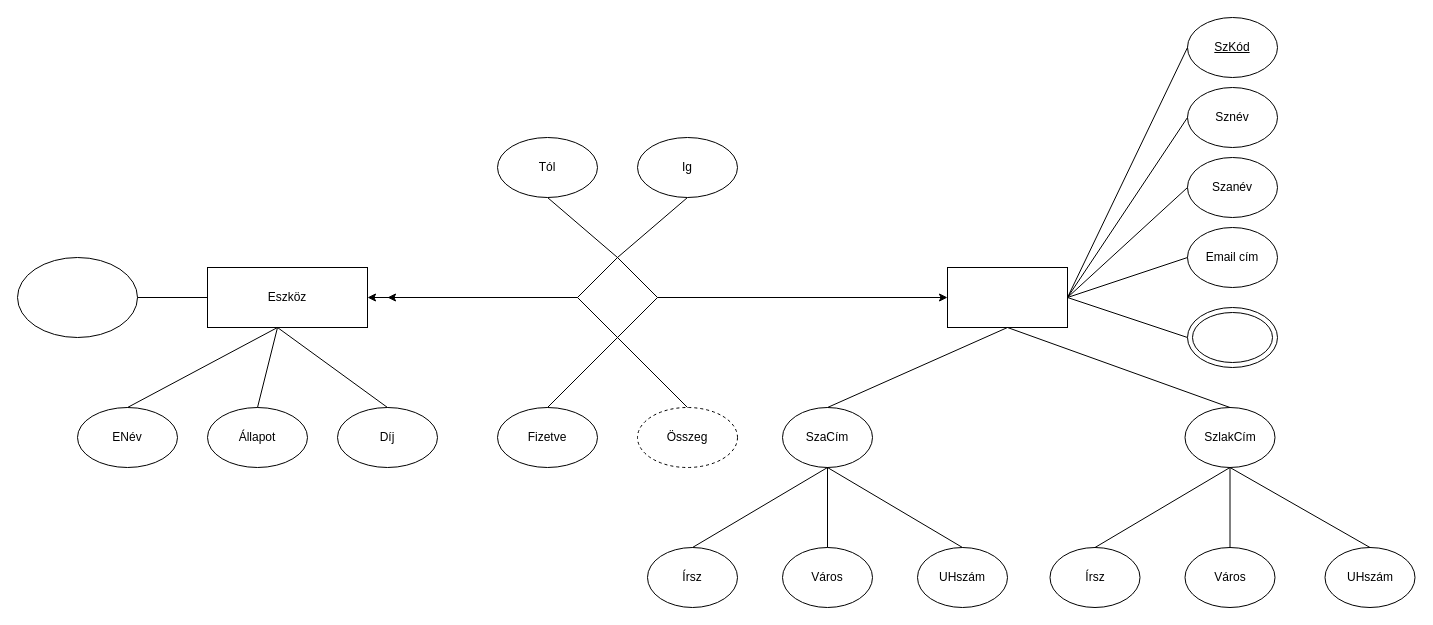
Image size: 1433x625. Some labels were removed from this diagram. The centre of each missing label's shape, as x and y in pixels:
EKód: the point at 77,297
Kölcsönzés: the point at 617,297
Személy: the point at 1007,297
Tszám: the point at 1232,337
